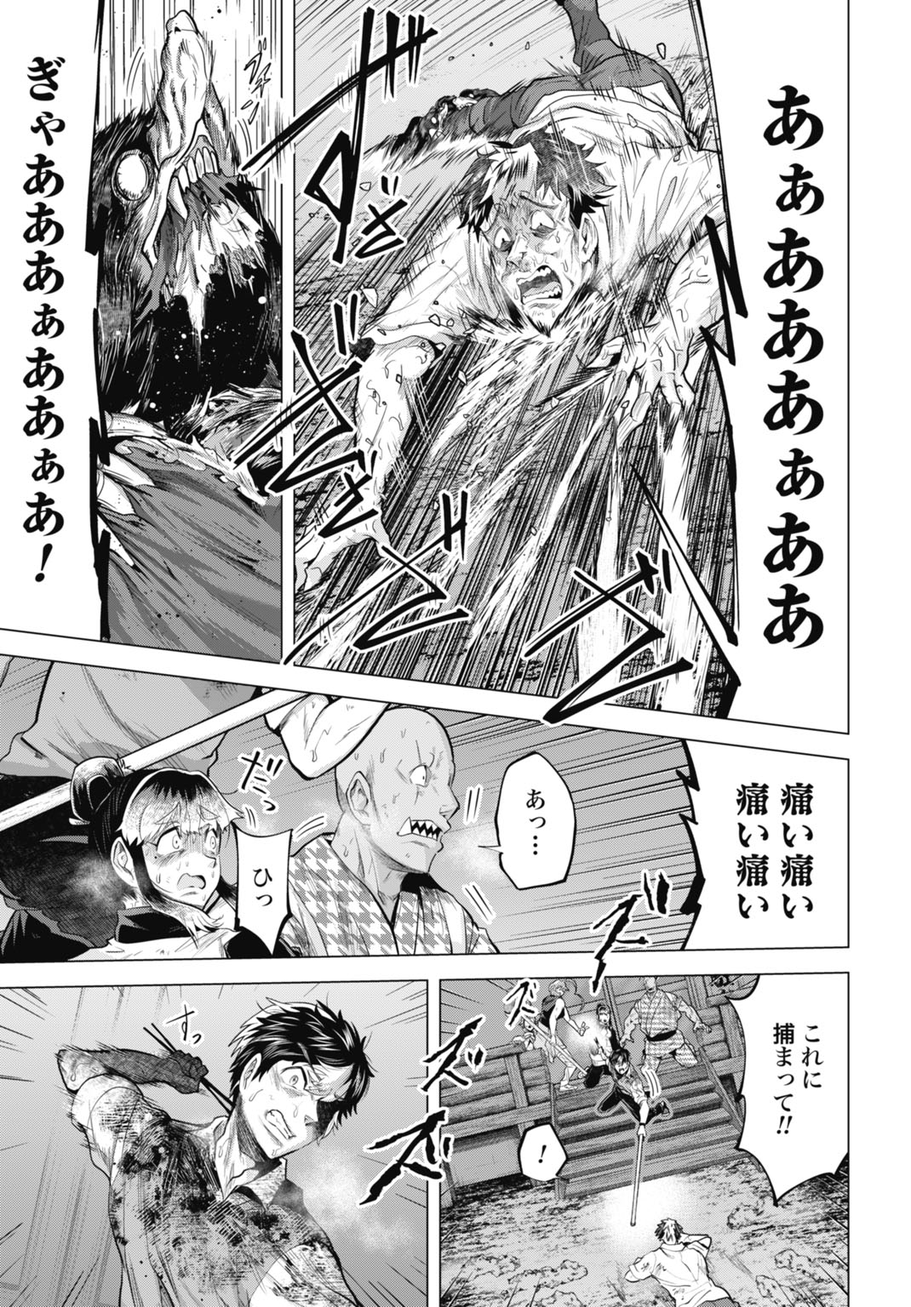bubbles: (668, 1, 849, 735), (1, 1, 119, 648), (656, 739, 861, 952), (721, 974, 859, 1213), (479, 740, 582, 905), (223, 819, 307, 959), (514, 1116, 581, 1190)
